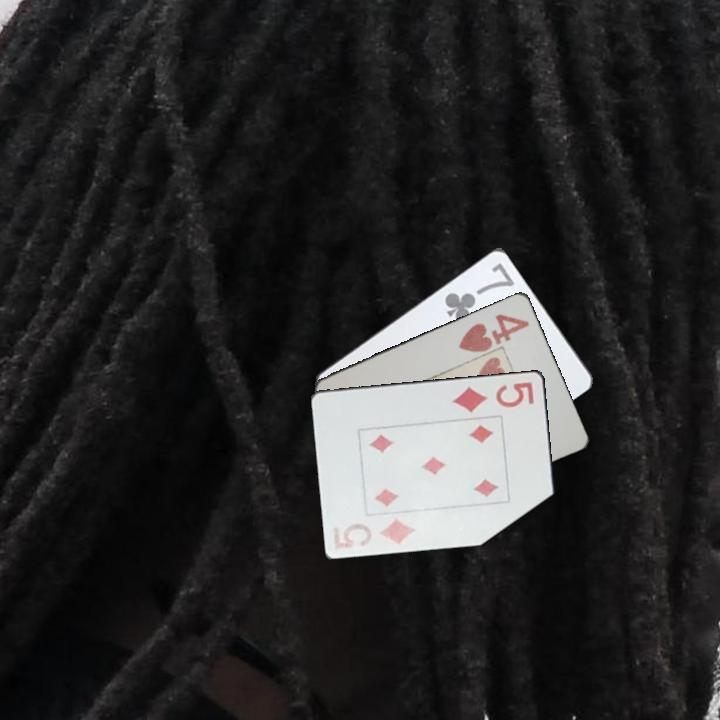4h: (455, 310, 532, 356)
5d: (449, 378, 537, 416), (340, 515, 418, 549)
7c: (441, 259, 517, 325)
